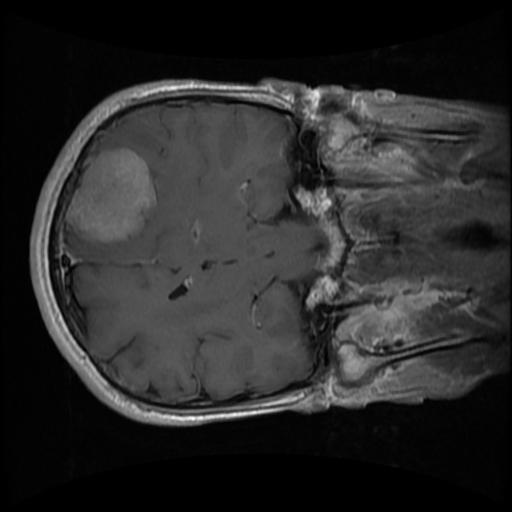meningioma: (64, 148, 157, 245)
